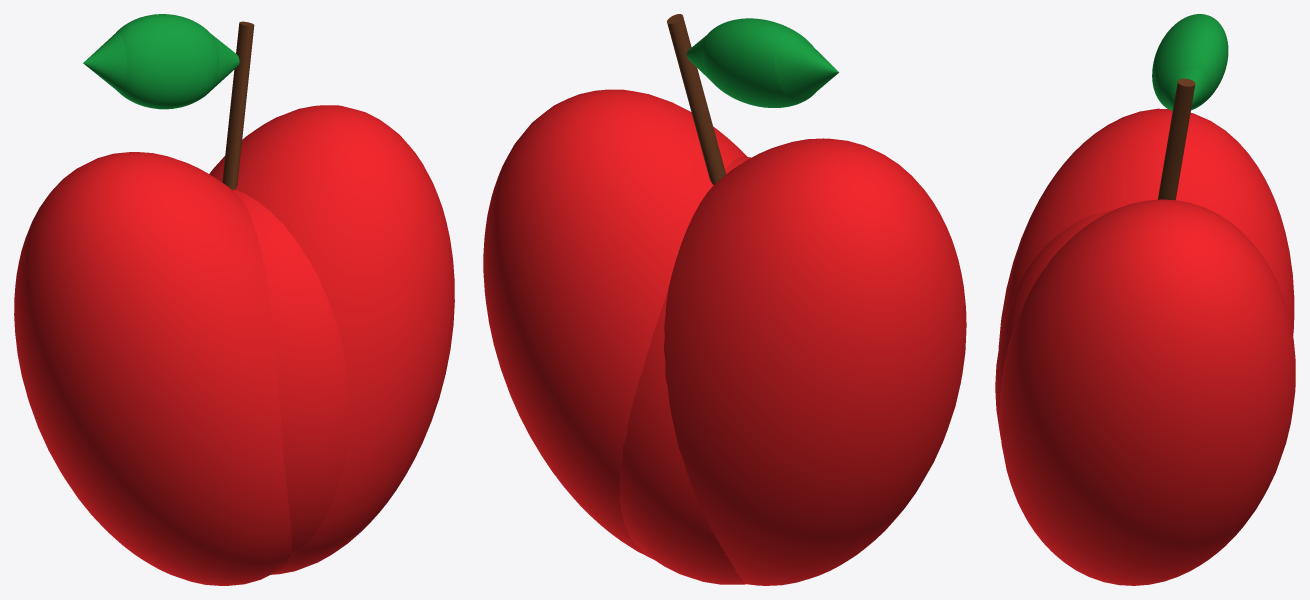
The model's file is apple.fbx.
3 views of the same model, side by side, from view 1: azimuth 30°, elevation 25°; view 2: azimuth 150°, elevation 25°; view 3: azimuth 270°, elevation 25° (orthographic). The views are drawn at different scales.
Visible parts, largest first — view 1: node_id42, node_id38, node_id40, node_id32, node_id36, node_id30, node_id34; view 2: node_id42, node_id38, node_id40, node_id32, node_id36, node_id30; view 3: node_id38, node_id42, node_id32, node_id40, node_id36, node_id34.
Part boxes in pixels (x1,y1,x2,y2): node_id42: [14, 152, 292, 585]; node_id38: [209, 105, 454, 574]; node_id40: [233, 189, 350, 560]; node_id32: [116, 14, 218, 109]; node_id36: [222, 21, 254, 189]; node_id30: [83, 32, 127, 91]; node_id34: [205, 34, 239, 95]; node_id42: [664, 138, 966, 585]; node_id38: [483, 89, 747, 559]; node_id40: [619, 156, 750, 584]; node_id32: [701, 18, 815, 107]; node_id36: [667, 14, 725, 184]; node_id30: [775, 41, 838, 101]; node_id38: [999, 199, 1295, 585]; node_id42: [998, 108, 1294, 348]; node_id32: [1152, 14, 1228, 109]; node_id40: [995, 210, 1113, 438]; node_id36: [1158, 78, 1195, 200]; node_id34: [1162, 69, 1209, 110].
Size of the model in its own units: 0.3477 by 0.4457 by 0.2345.
Materials: 7 (7 with a texture image).
